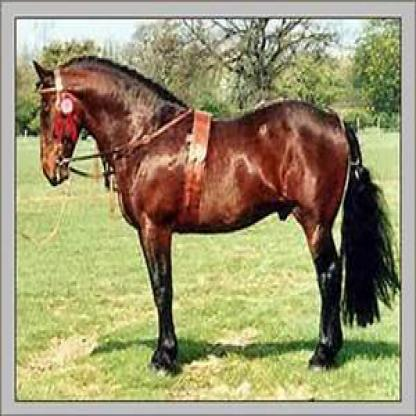horse: (32, 58, 395, 390)
